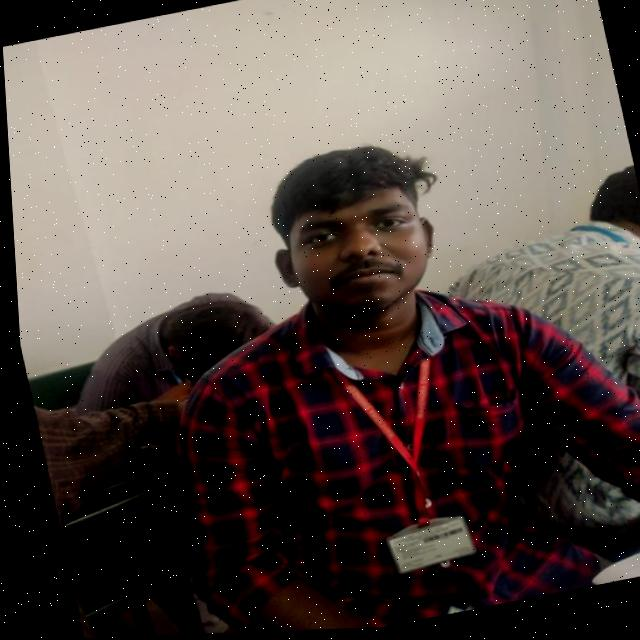id_card: (303, 307, 488, 592)
